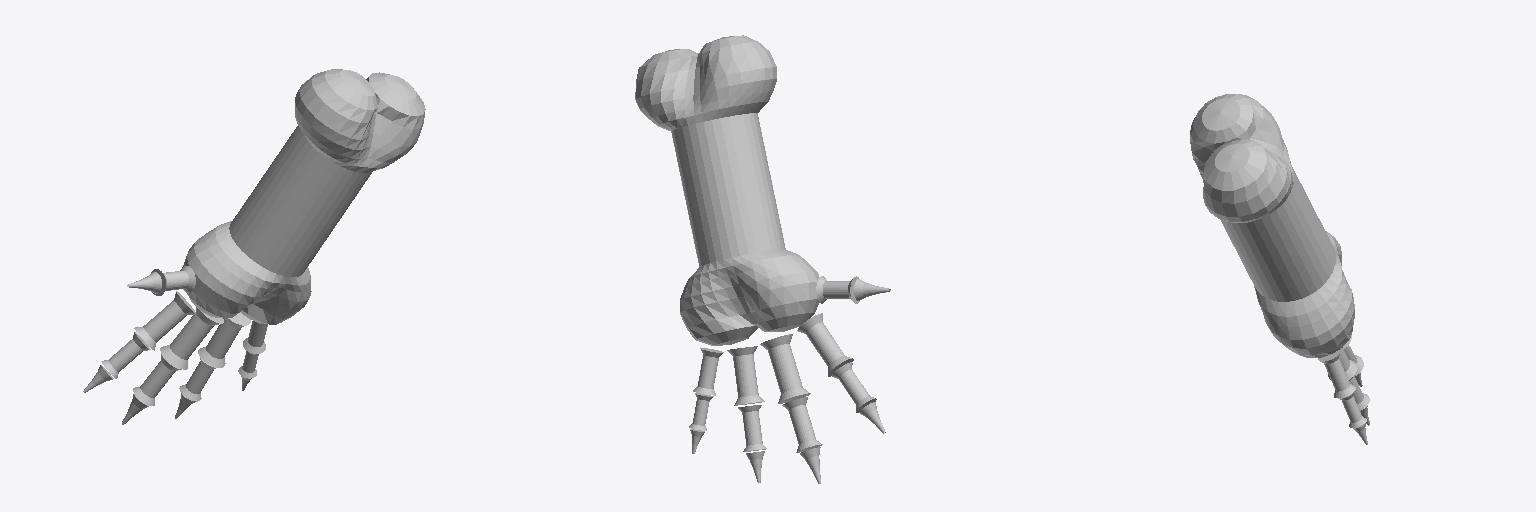
File: skeleton_HAND.obj
3 renders of one model, left to right at view 1: azimuth 30°, elevation 25°; view 2: azimuth 150°, elevation 25°; view 3: azimuth 270°, elevation 25°, orthographic.
Parts seen in each view (by area): view 1: RiggedTricep.R_Sphere.023, RiggedMiddle1.R_Sphere.031, RiggedIndex1.R_Sphere.026, RiggedRing1.R_Sphere.032, RiggedMiddle2.R_Sphere.030, RiggedIndex2.R_Sphere.027, RiggedThumb1.R_Sphere.024, RiggedRing2.R_Sphere.033, RiggedPinky1.R_Sphere.037; view 2: RiggedTricep.R_Sphere.023, RiggedMiddle1.R_Sphere.031, RiggedIndex1.R_Sphere.026, RiggedRing1.R_Sphere.032, RiggedMiddle2.R_Sphere.030, RiggedIndex2.R_Sphere.027, RiggedRing2.R_Sphere.033, RiggedPinky1.R_Sphere.037, RiggedThumb1.R_Sphere.024; view 3: RiggedTricep.R_Sphere.023, RiggedPinky1.R_Sphere.037.
Part boxes in pixels (bbox=[...]): RiggedTricep.R_Sphere.023: bbox=[183, 69, 425, 324]; RiggedMiddle1.R_Sphere.031: bbox=[160, 307, 223, 369]; RiggedIndex1.R_Sphere.026: bbox=[134, 291, 195, 350]; RiggedRing1.R_Sphere.032: bbox=[198, 312, 250, 367]; RiggedMiddle2.R_Sphere.030: bbox=[133, 353, 181, 405]; RiggedIndex2.R_Sphere.027: bbox=[101, 332, 150, 378]; RiggedThumb1.R_Sphere.024: bbox=[151, 266, 195, 295]; RiggedRing2.R_Sphere.033: bbox=[179, 358, 215, 401]; RiggedPinky1.R_Sphere.037: bbox=[243, 321, 267, 353]; RiggedTricep.R_Sphere.023: bbox=[635, 35, 819, 345]; RiggedMiddle1.R_Sphere.031: bbox=[760, 334, 810, 403]; RiggedIndex1.R_Sphere.026: bbox=[797, 313, 853, 376]; RiggedRing1.R_Sphere.032: bbox=[727, 346, 764, 405]; RiggedMiddle2.R_Sphere.030: bbox=[782, 397, 822, 452]; RiggedIndex2.R_Sphere.027: bbox=[832, 362, 876, 412]; RiggedRing2.R_Sphere.033: bbox=[738, 405, 766, 451]; RiggedPinky1.R_Sphere.037: bbox=[693, 348, 723, 395]; RiggedThumb1.R_Sphere.024: bbox=[816, 276, 859, 303]; RiggedTricep.R_Sphere.023: bbox=[1190, 94, 1354, 357]; RiggedPinky1.R_Sphere.037: bbox=[1318, 350, 1355, 397].
Bounding box in the file's own units: 0.4153 × 0.5105 × 0.2235.